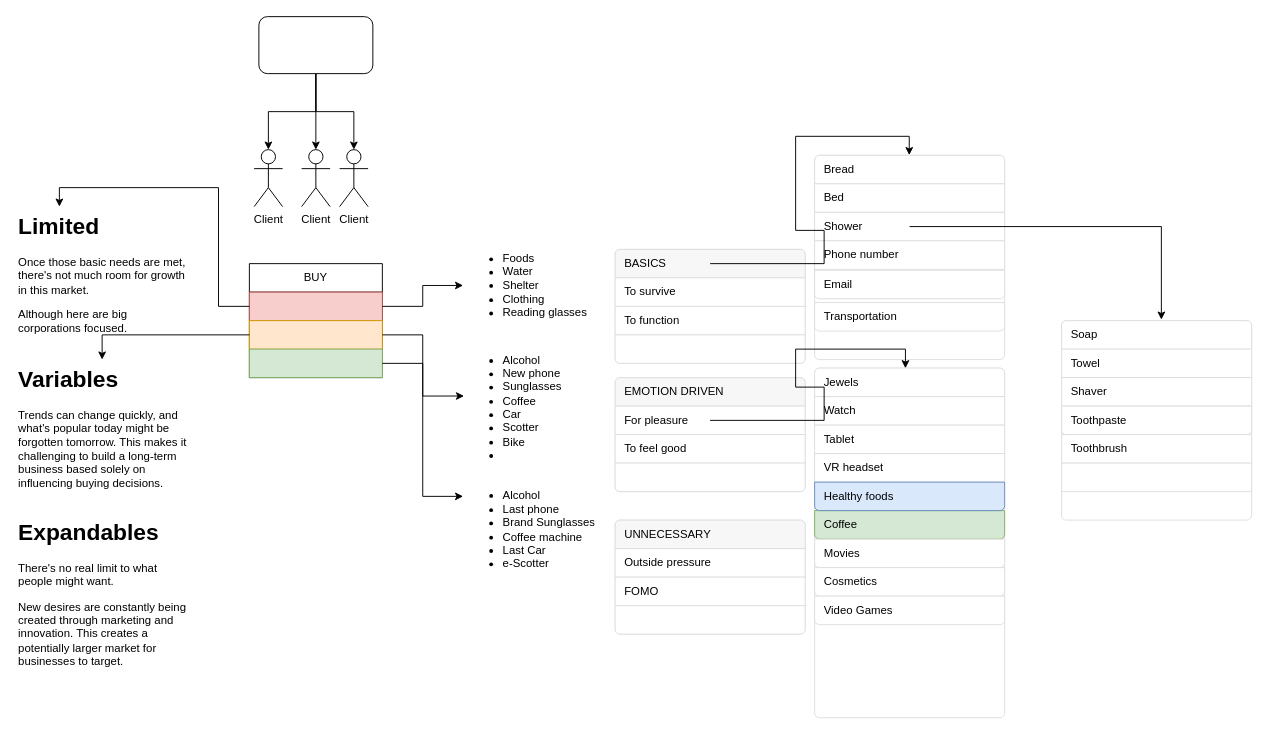
Some shapes in this 1268 by 734 pixel diagram are drawn without their labels. Each missing label, with the centre of its shape:
"Influences" belongs at (315,363).
"Metro/Bus ticket" belongs at (1156,477).
"Needs" belongs at (315,306).
"SALES" belongs at (315,45).
"Wants" belongs at (315,334).
